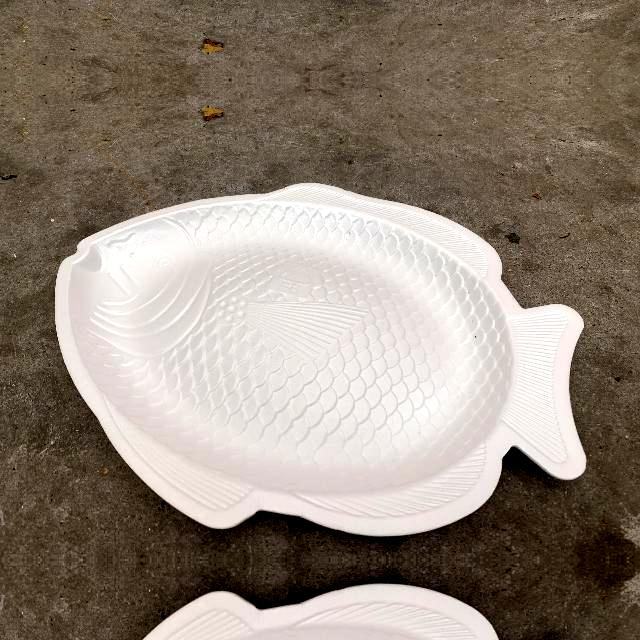Styrofoam: (54, 182, 588, 538), (55, 183, 587, 536)
